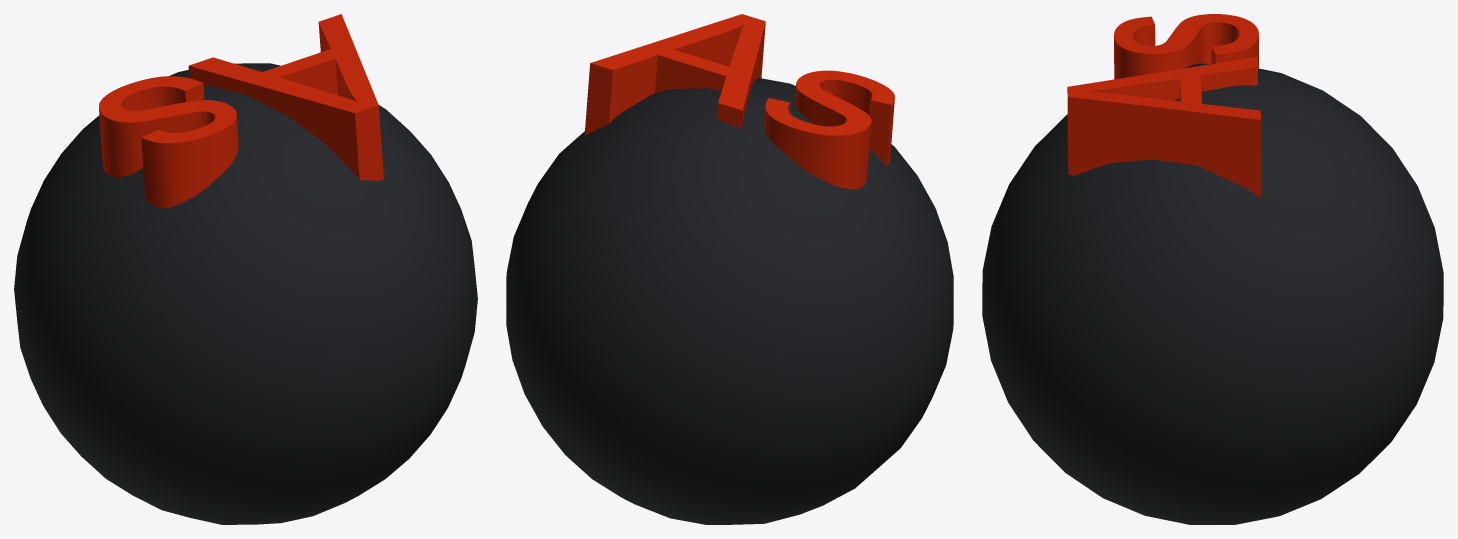
3 renders of one model, left to right at view 1: azimuth 30°, elevation 25°; view 2: azimuth 150°, elevation 25°; view 3: azimuth 270°, elevation 25°, orthographic. The views are drawn at different scales.
Visible parts, largest first — view 1: As; view 2: As; view 3: As.
Boxes of the visible parts, bbox=[...] form: As: bbox=[14, 14, 477, 524]; As: bbox=[506, 14, 953, 524]; As: bbox=[982, 14, 1443, 524].
Size of the model in its own units: 38.68 by 40.74 by 38.58.
